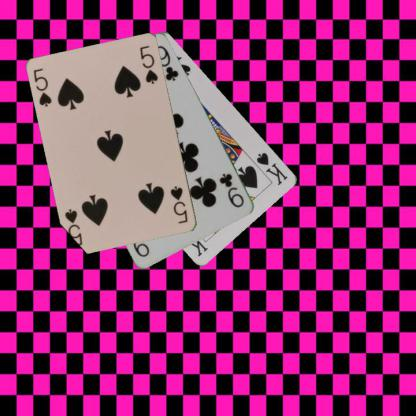5s: (167, 184, 190, 225), (31, 66, 53, 108)
9c: (216, 171, 246, 209)
Ks: (254, 150, 289, 187)
